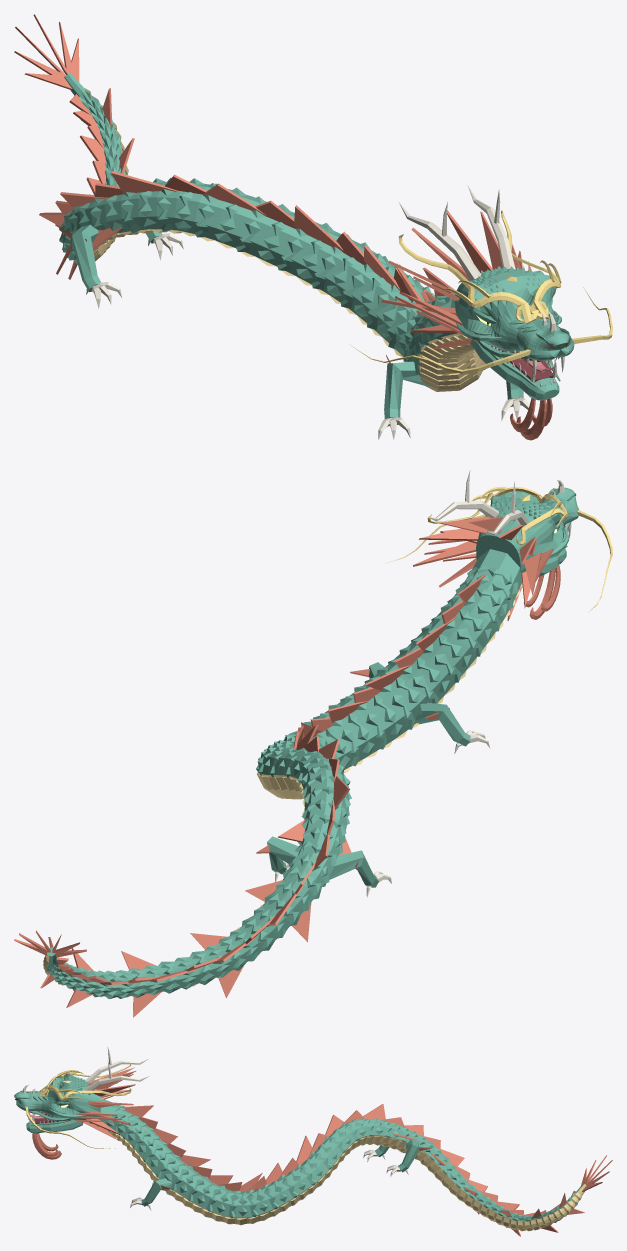
Rendered from Dragon_Long_v12.glb.
The picture shows the model from 3 angles, top to bottom: view 1: azimuth 30°, elevation 25°; view 2: azimuth 150°, elevation 25°; view 3: azimuth 270°, elevation 25°; orthographic projection. The views are drawn at different scales.
Visible parts, largest first — view 1: Body, Fins, Horns, Belly, Whiskers; view 2: Body, Fins, Horns, Whiskers, Belly; view 3: Body, Fins, Belly, Horns, Whiskers.
Part boxes in pixels (x1,y1,x2,y2): Body: [59, 72, 574, 418]; Fins: [14, 14, 552, 440]; Horns: [86, 185, 564, 439]; Belly: [84, 88, 485, 391]; Whiskers: [349, 210, 612, 373]; Body: [46, 487, 578, 998]; Fins: [14, 516, 560, 1017]; Horns: [275, 470, 571, 897]; Whiskers: [387, 486, 612, 611]; Belly: [43, 583, 522, 997]; Body: [14, 1075, 584, 1230]; Fins: [32, 1067, 612, 1236]; Belly: [43, 1122, 586, 1231]; Horns: [22, 1047, 408, 1210]; Whiskers: [25, 1064, 131, 1148].
Size of the model in its own units: 14.48 by 19.17 by 58.04.
